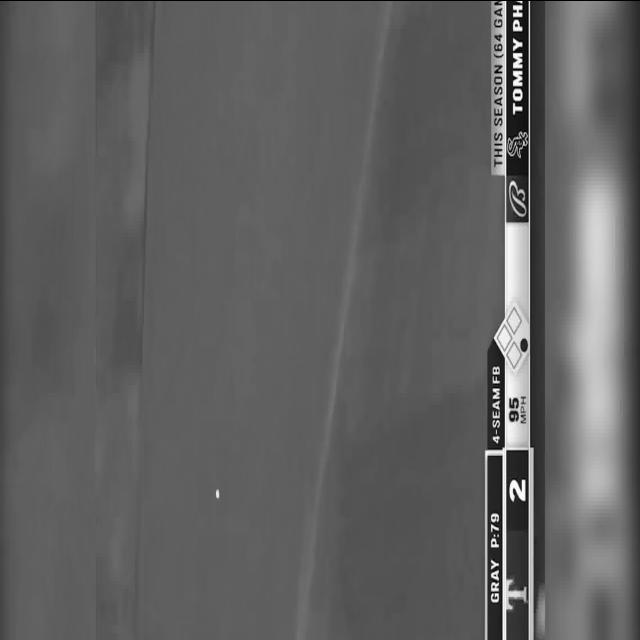baseball: (215, 487, 220, 498)
